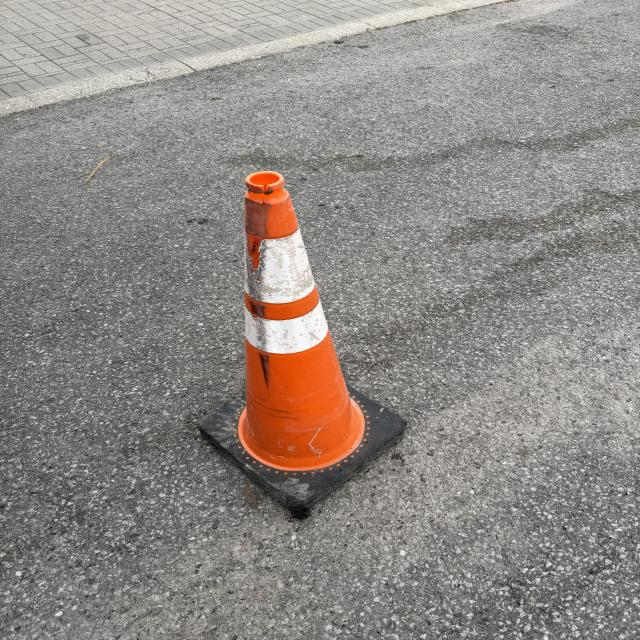Traffic Cone: (194, 170, 412, 522)
